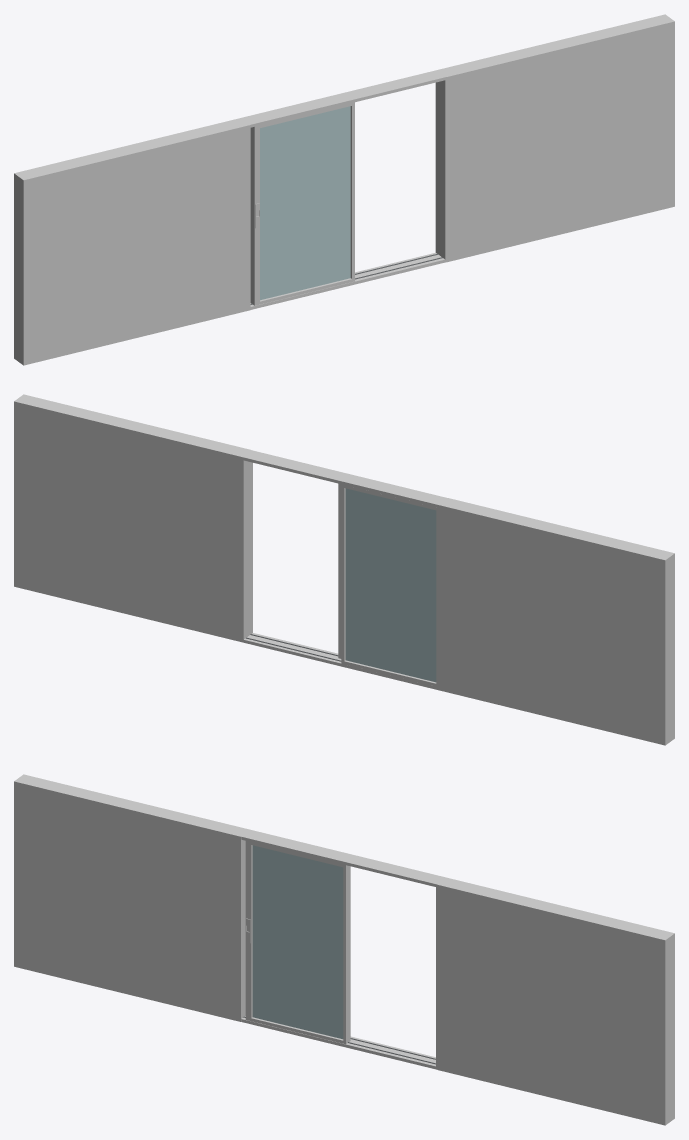
The model's file is window.glb.
3 views of the same model, one above another, from view 1: azimuth 30°, elevation 25°; view 2: azimuth 150°, elevation 25°; view 3: azimuth 330°, elevation 25° (orthographic).
Visible parts, largest first — view 1: Mesh_Mesh_head_geo.001_lambert2SG.001; view 2: Mesh_Mesh_head_geo.001_lambert2SG.001; view 3: Mesh_Mesh_head_geo.001_lambert2SG.001.
Part boxes in pixels (bbox=[...]): Mesh_Mesh_head_geo.001_lambert2SG.001: bbox=[14, 14, 674, 365]; Mesh_Mesh_head_geo.001_lambert2SG.001: bbox=[14, 394, 674, 745]; Mesh_Mesh_head_geo.001_lambert2SG.001: bbox=[14, 774, 674, 1125].
Size of the model in its own units: 0.195 by 0.053 by 0.005.
